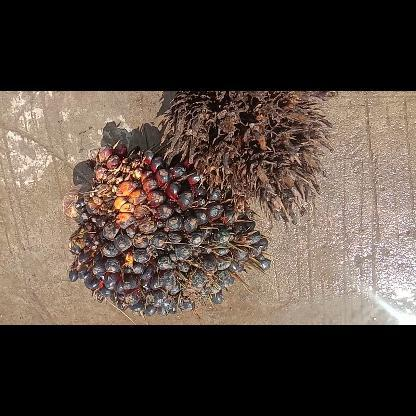Janjang kosong: (160, 91, 330, 223)
TBS mentah: (62, 139, 278, 321)
